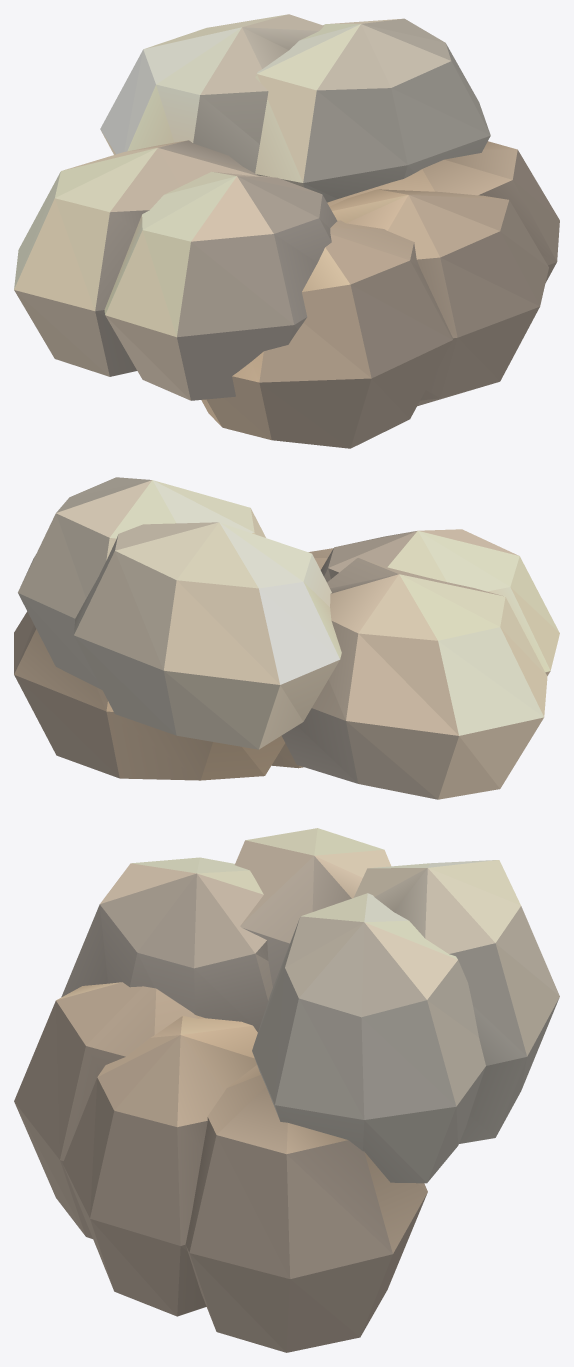
The model's file is find_rabbit_down.glb.
3 views of the same model, one above another, from view 1: azimuth 30°, elevation 25°; view 2: azimuth 150°, elevation 25°; view 3: azimuth 270°, elevation 25° (orthographic). The views are drawn at different scales.
Visible parts, largest first — view 1: find_rabbit_down; view 2: find_rabbit_down; view 3: find_rabbit_down.
Boxes of the visible parts, box(x1,y1,x2,y2) form: find_rabbit_down: box(14, 14, 559, 448); find_rabbit_down: box(14, 477, 559, 799); find_rabbit_down: box(14, 828, 559, 1352).
Size of the model in its own units: 0.582 by 0.334 by 0.4271.
